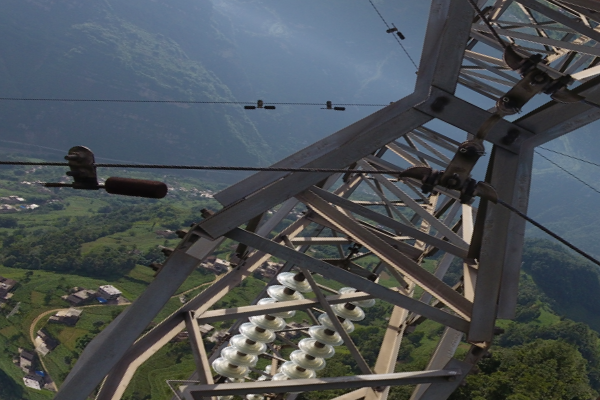damper: (241, 98, 277, 111)
damper_defect: (42, 144, 166, 201), (318, 99, 345, 112)
